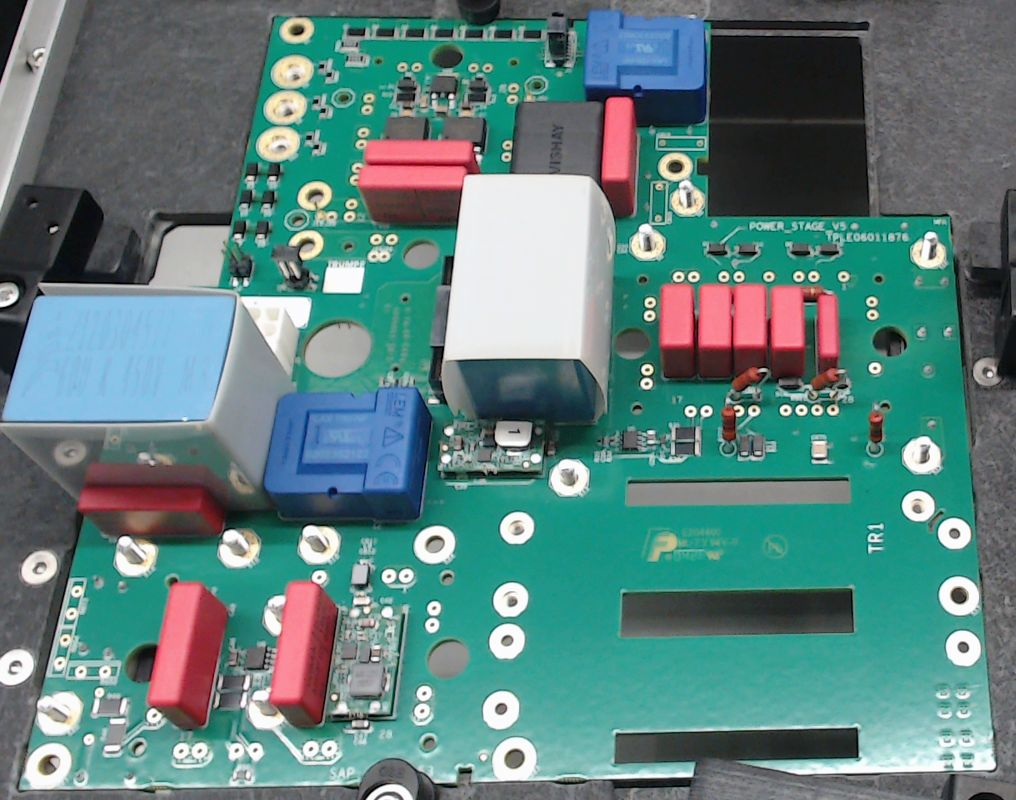comp1: (267, 385, 433, 522), (582, 13, 710, 126)
comp2: (149, 580, 231, 733), (269, 580, 339, 728), (74, 484, 225, 545), (359, 164, 466, 220), (598, 97, 638, 215), (729, 282, 767, 386), (766, 284, 806, 381), (695, 283, 734, 379), (660, 284, 695, 380), (359, 140, 479, 164), (813, 289, 841, 371)
comp3: (506, 98, 603, 174)
comp4: (2, 281, 300, 515), (440, 173, 615, 423)
